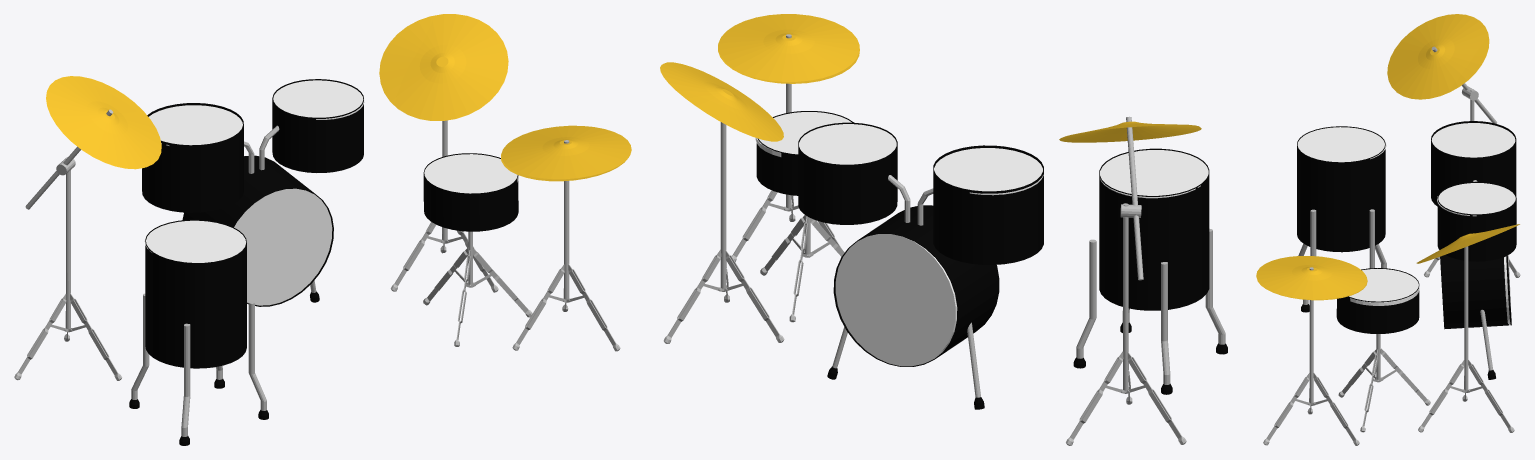
Rendered from Drumkit2.0.fbx.
The picture shows the model from 3 angles, left to right: view 1: azimuth 30°, elevation 25°; view 2: azimuth 150°, elevation 25°; view 3: azimuth 270°, elevation 25°; orthographic projection. The views are drawn at different scales.
Visible parts, largest first — view 1: Drumkit2.0, CrashCymbal, Hi-Hat, FloorTom, SnareDrum, HighTom, LowTom, RideCymbal; view 2: Drumkit2.0, BassDrum, Hi-Hat, FloorTom, LowTom, CrashCymbal, HighTom, SnareDrum, RideCymbal; view 3: Drumkit2.0, Hi-Hat, FloorTom, SnareDrum, HighTom, LowTom, CrashCymbal, RideCymbal, BassDrum.
Part boxes in pixels (x1,y1,x2,y2): Drumkit2.0: (14,14,631,445); CrashCymbal: (382,14,508,120); Hi-Hat: (501,125,631,180); FloorTom: (144,220,244,262); SnareDrum: (425,154,518,193); HighTom: (275,80,364,119); LowTom: (149,105,240,145); RideCymbal: (46,76,151,169); Drumkit2.0: (660,34,1227,445); BassDrum: (835,234,957,366); Hi-Hat: (718,14,859,83); FloorTom: (1100,150,1208,198); LowTom: (935,148,1043,195); CrashCymbal: (661,62,783,141); HighTom: (799,124,896,164); SnareDrum: (755,112,850,156); RideCymbal: (1065,125,1201,142); Drumkit2.0: (1256,14,1520,445); Hi-Hat: (1256,256,1367,299); FloorTom: (1299,127,1386,162); SnareDrum: (1349,269,1419,305); HighTom: (1437,183,1514,216); LowTom: (1432,123,1513,156); CrashCymbal: (1416,227,1513,263); RideCymbal: (1438,14,1489,92); BassDrum: (1504,255,1510,325).
Size of the model in its own units: 266 by 143 by 139.
